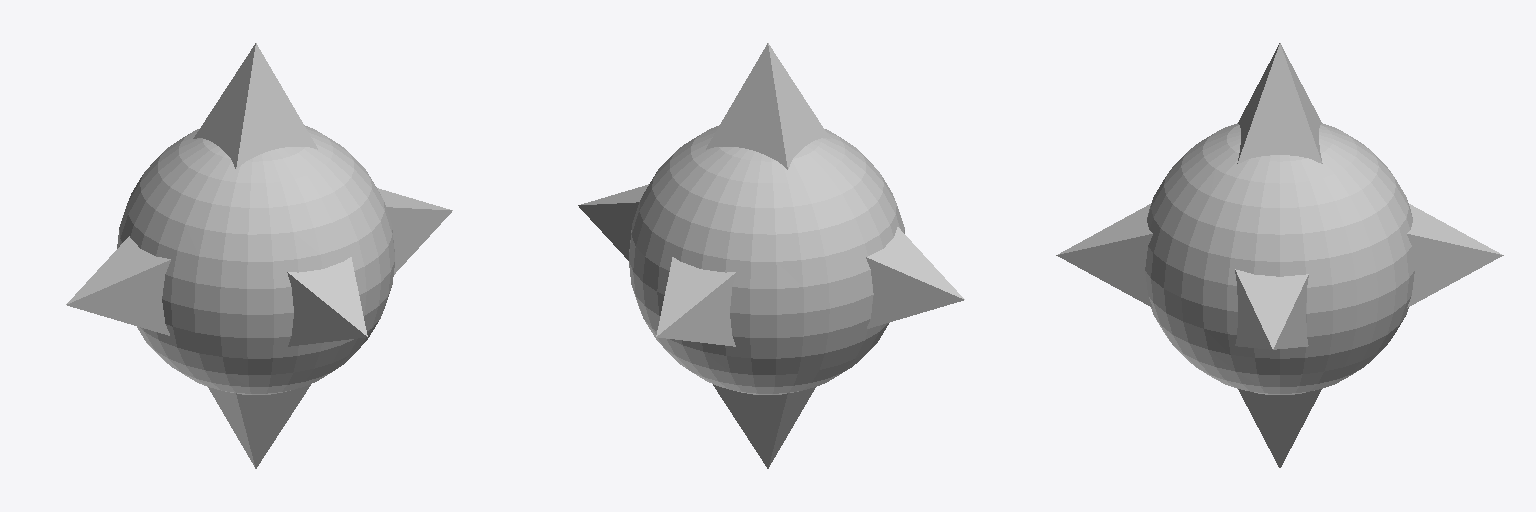
File: spiked_ball.obj
3 views of the same model, side by side, from view 1: azimuth 30°, elevation 25°; view 2: azimuth 150°, elevation 25°; view 3: azimuth 270°, elevation 25° (orthographic).
Visible parts, largest first — view 1: Sphere001, Pyramid002, Pyramid003, Pyramid006, Pyramid004, Pyramid001; view 2: Sphere001, Pyramid002, Pyramid003, Pyramid005, Pyramid004, Pyramid001; view 3: Sphere001, Pyramid002, Pyramid001, Pyramid006, Pyramid005, Pyramid004.
Boxes of the visible parts, box(x1,y1,x2,y2) form: Sphere001: box(117, 125, 394, 394); Pyramid002: box(193, 43, 317, 169); Pyramid003: box(66, 236, 170, 335); Pyramid006: box(287, 257, 367, 346); Pyramid004: box(208, 384, 310, 468); Pyramid001: box(377, 188, 452, 274); Sphere001: box(629, 125, 904, 394); Pyramid002: box(706, 43, 830, 169); Pyramid003: box(866, 227, 964, 328); Pyramid005: box(656, 257, 736, 346); Pyramid004: box(713, 384, 815, 468); Pyramid001: box(578, 184, 648, 260); Sphere001: box(1145, 123, 1414, 394); Pyramid002: box(1237, 43, 1322, 163); Pyramid001: box(1235, 269, 1308, 349); Pyramid006: box(1056, 204, 1152, 307); Pyramid005: box(1407, 204, 1503, 307); Pyramid004: box(1238, 389, 1321, 467).
Bounding box in the file's own units: 3.21 × 3.37 × 3.21.